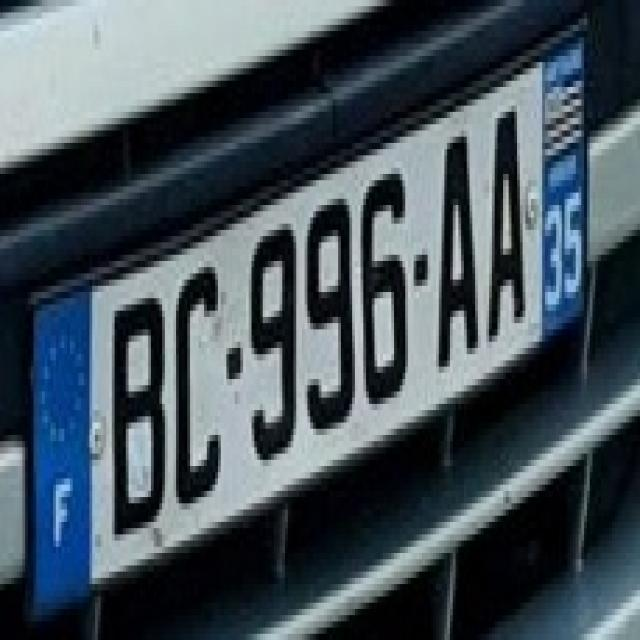EU: (31, 24, 591, 616)
France: (36, 286, 92, 608)
